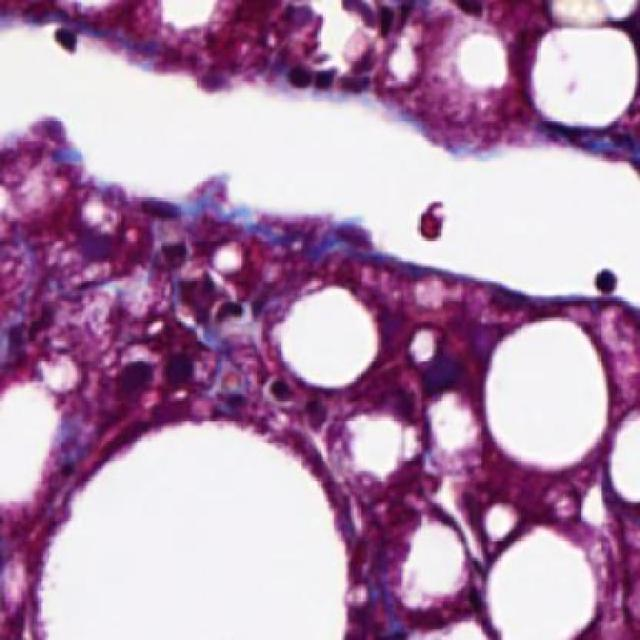inflammation: (69, 208, 200, 304), (96, 328, 216, 410)
